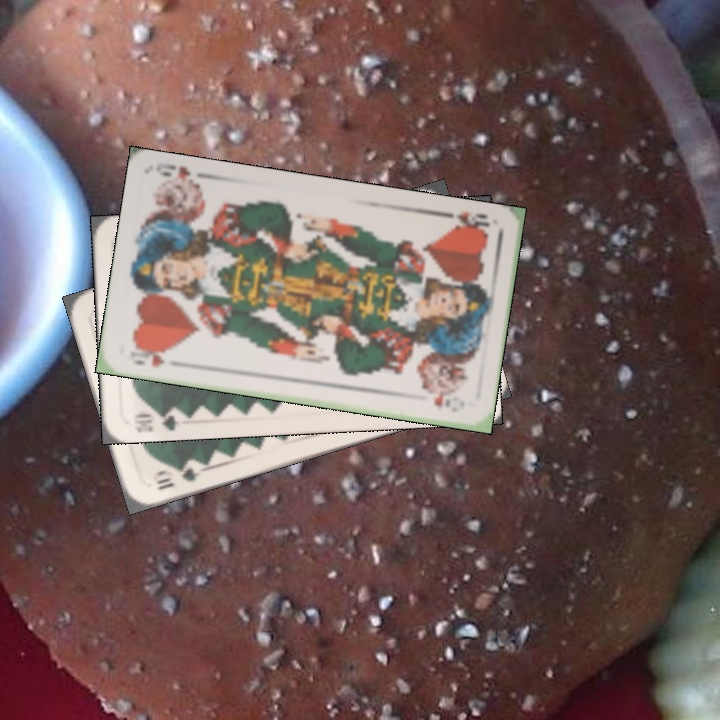G10: (152, 460, 204, 493), (130, 405, 181, 434)
HO: (438, 207, 492, 237), (126, 342, 168, 370)
